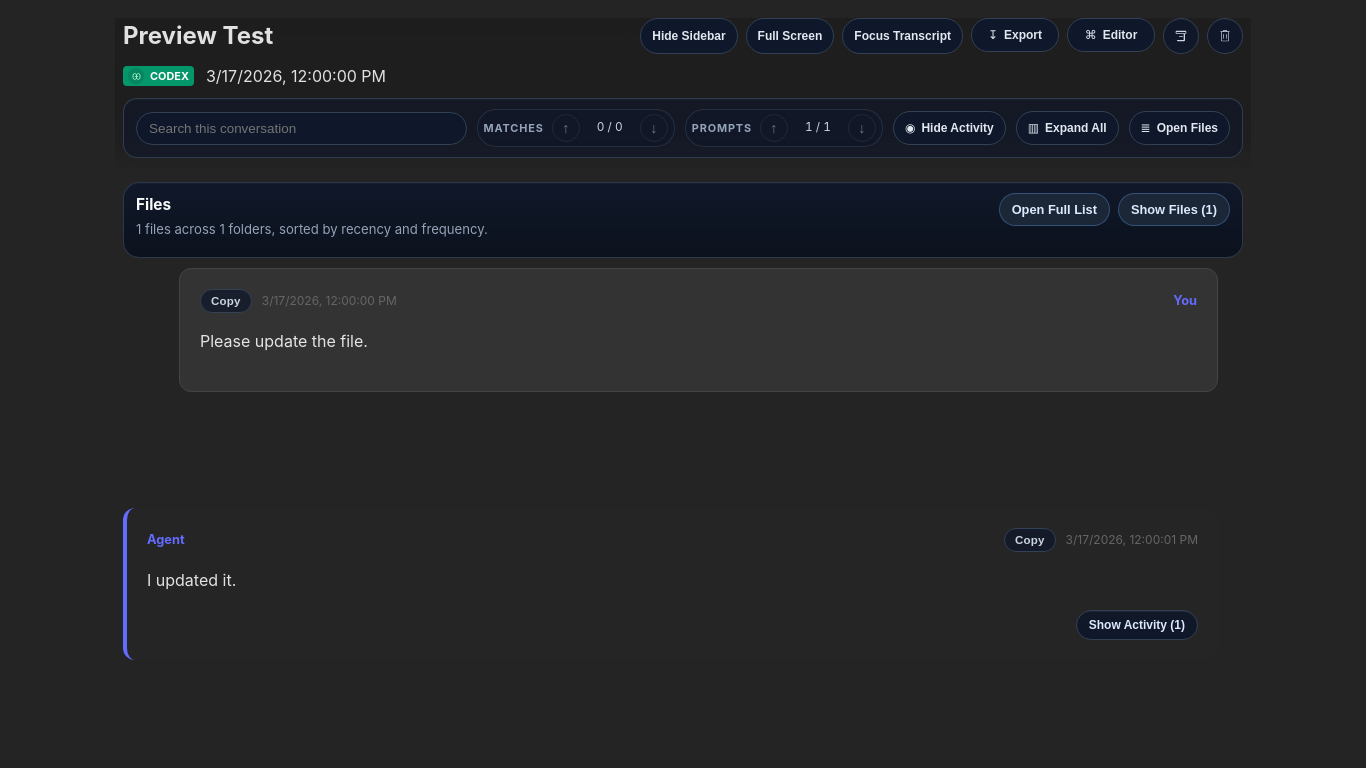
ConversationDetail file preview › opens the full files list in a modal and previews a file from there
Click the button "Open Full List": (1054, 210) [999, 193, 1110, 226]
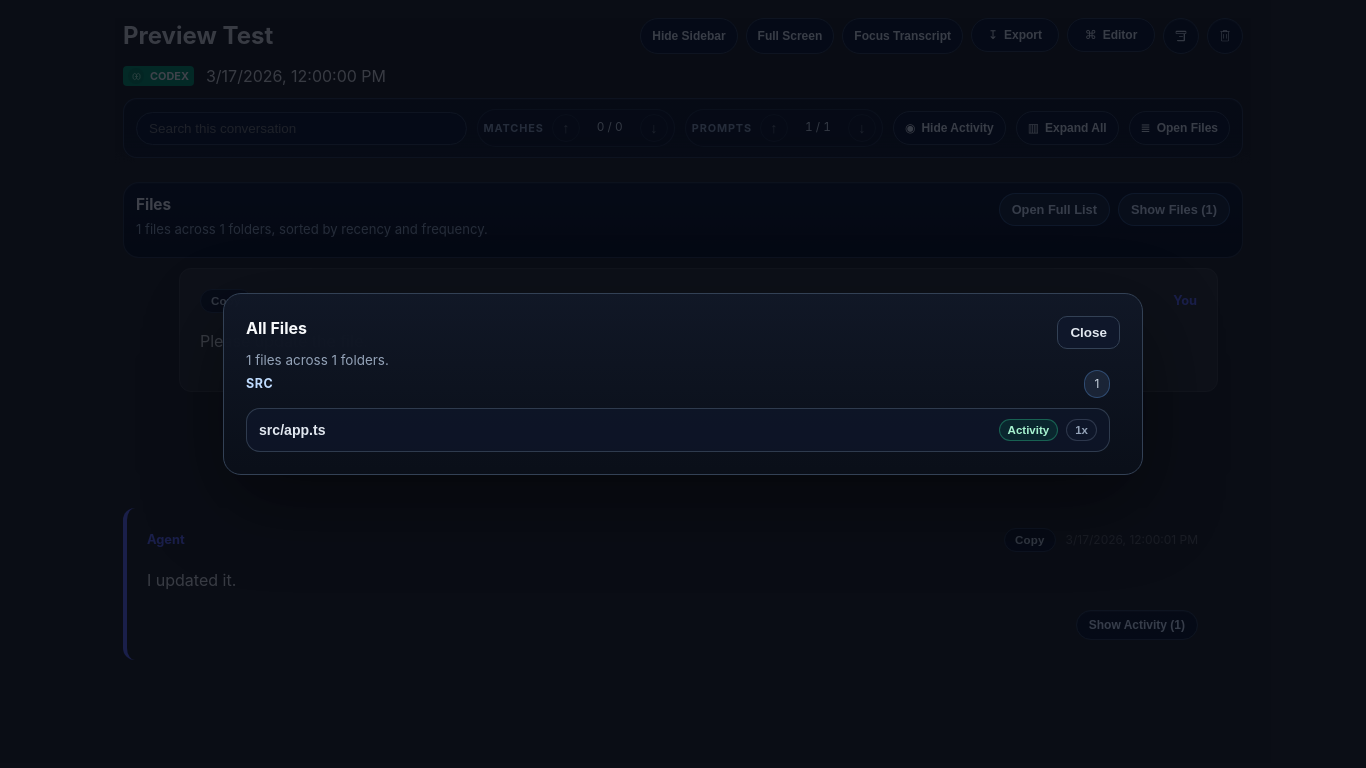
Click the button "src/app.ts Activity 1x": (292, 430) [246, 408, 1110, 452]
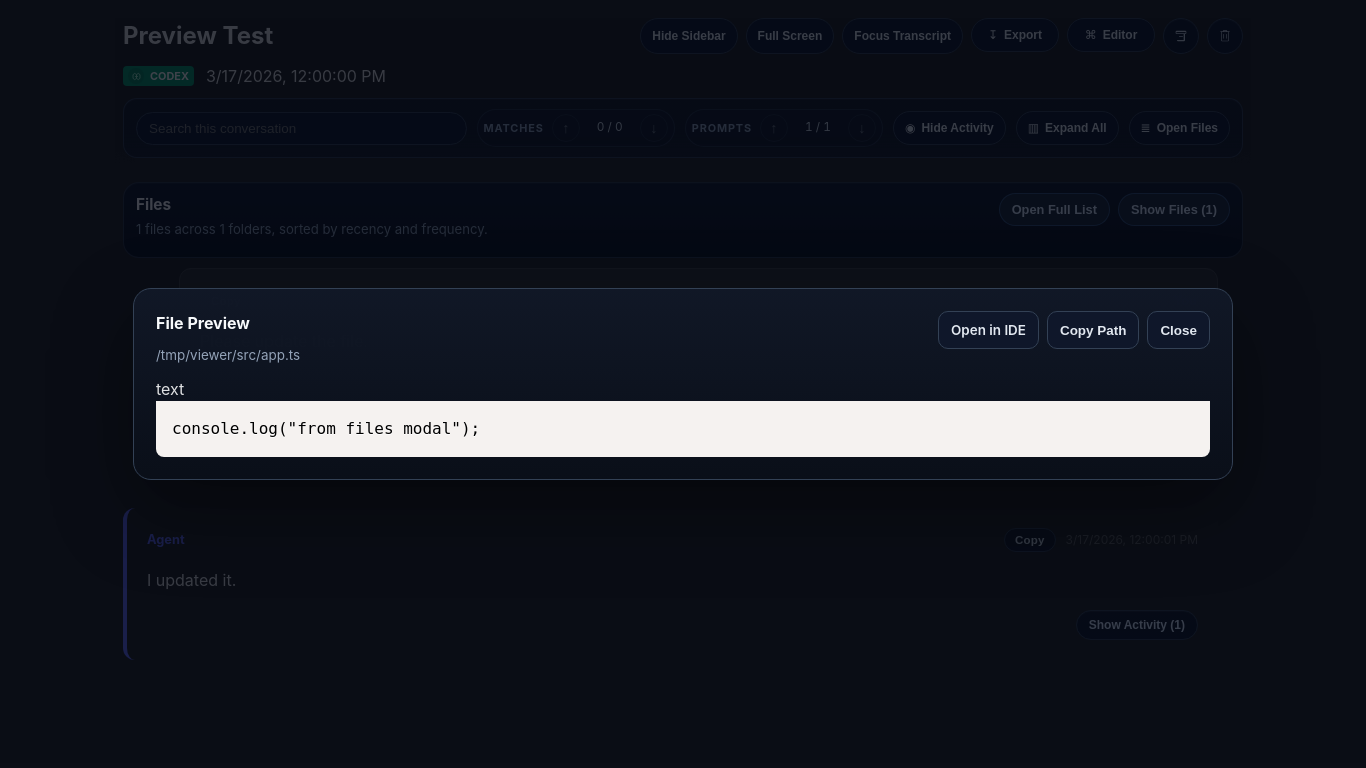
Expected: the dialog "File Preview" is shown, [133, 288, 1233, 480]
Expected: the text "console.log(\"from files modal\");" is shown, [172, 419, 480, 438]
